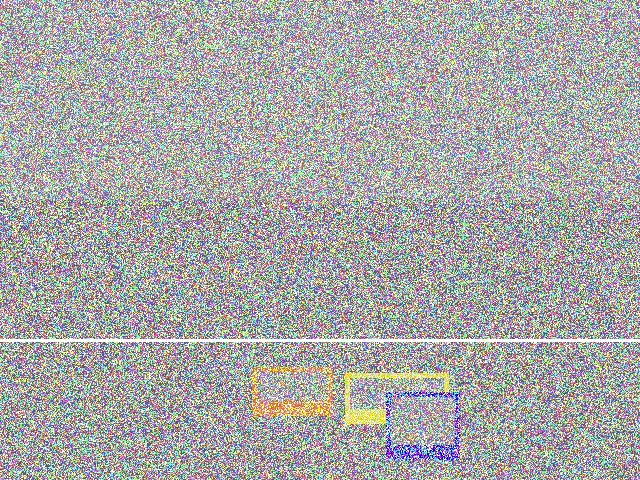motorcycle: (237, 169, 389, 276)
truck: (84, 319, 173, 444), (266, 324, 383, 372)
